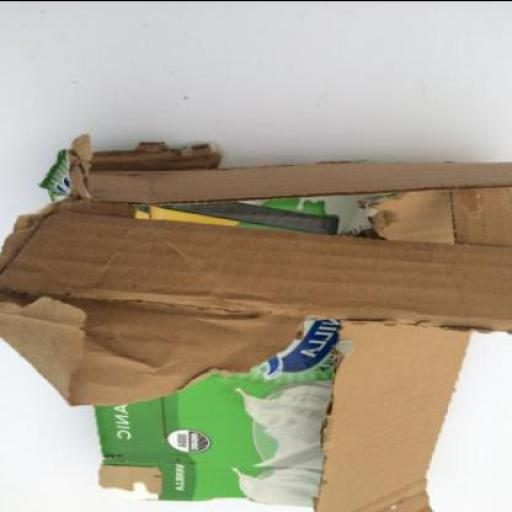cardboard: (1, 133, 512, 511), (1, 197, 511, 409), (318, 197, 478, 511)
